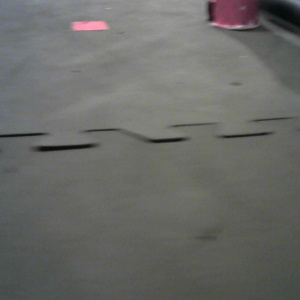right: (206, 1, 263, 30)
